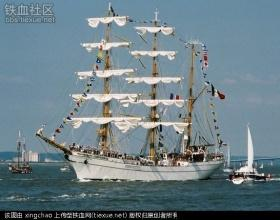fanchuan: (52, 6, 233, 183), (230, 124, 276, 186)
